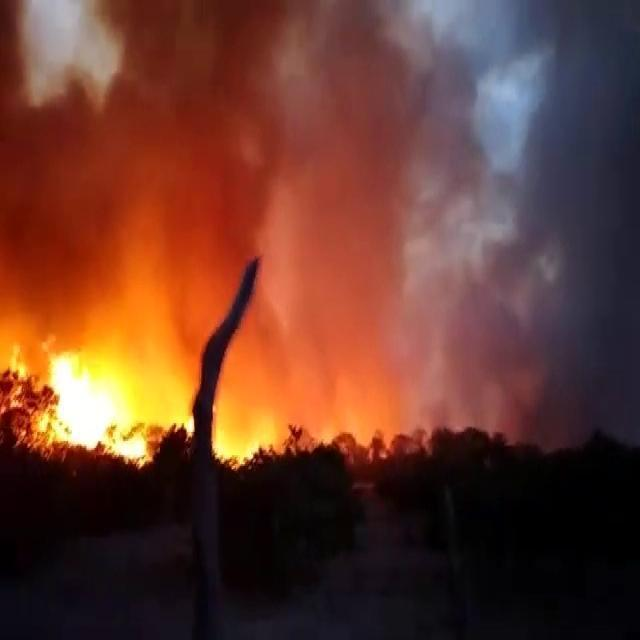Fire: (21, 334, 150, 489)
Smoke: (267, 0, 640, 468), (0, 0, 333, 316)
